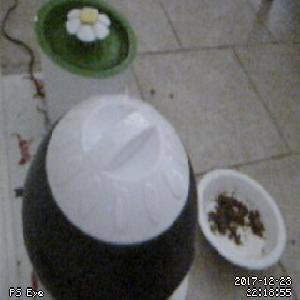fountain: (34, 1, 138, 80)
